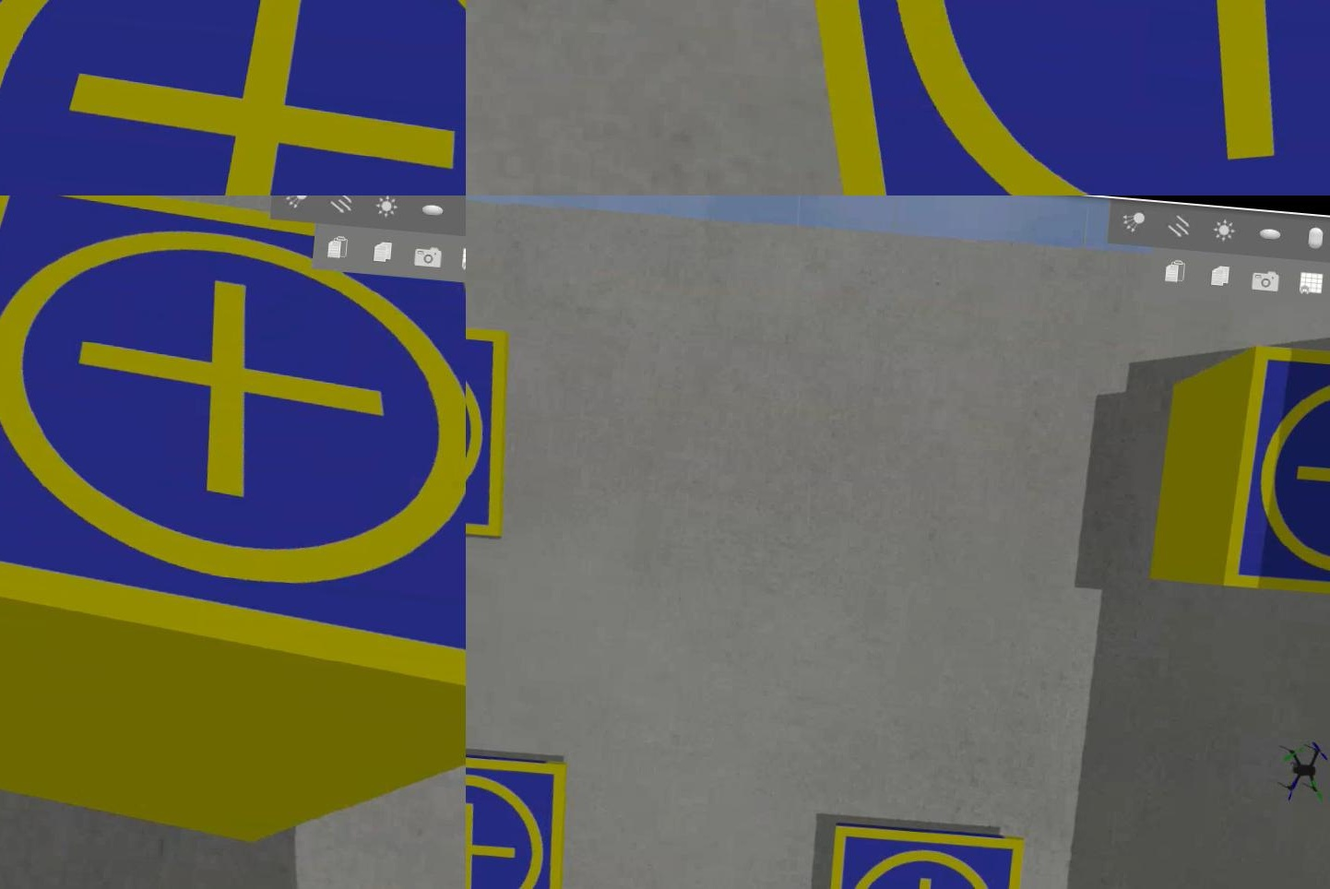small_base: (0, 196, 464, 732), (668, 1, 1328, 196), (0, 1, 464, 196), (1211, 338, 1328, 619), (464, 746, 577, 889), (815, 823, 1026, 889), (464, 306, 517, 542)
